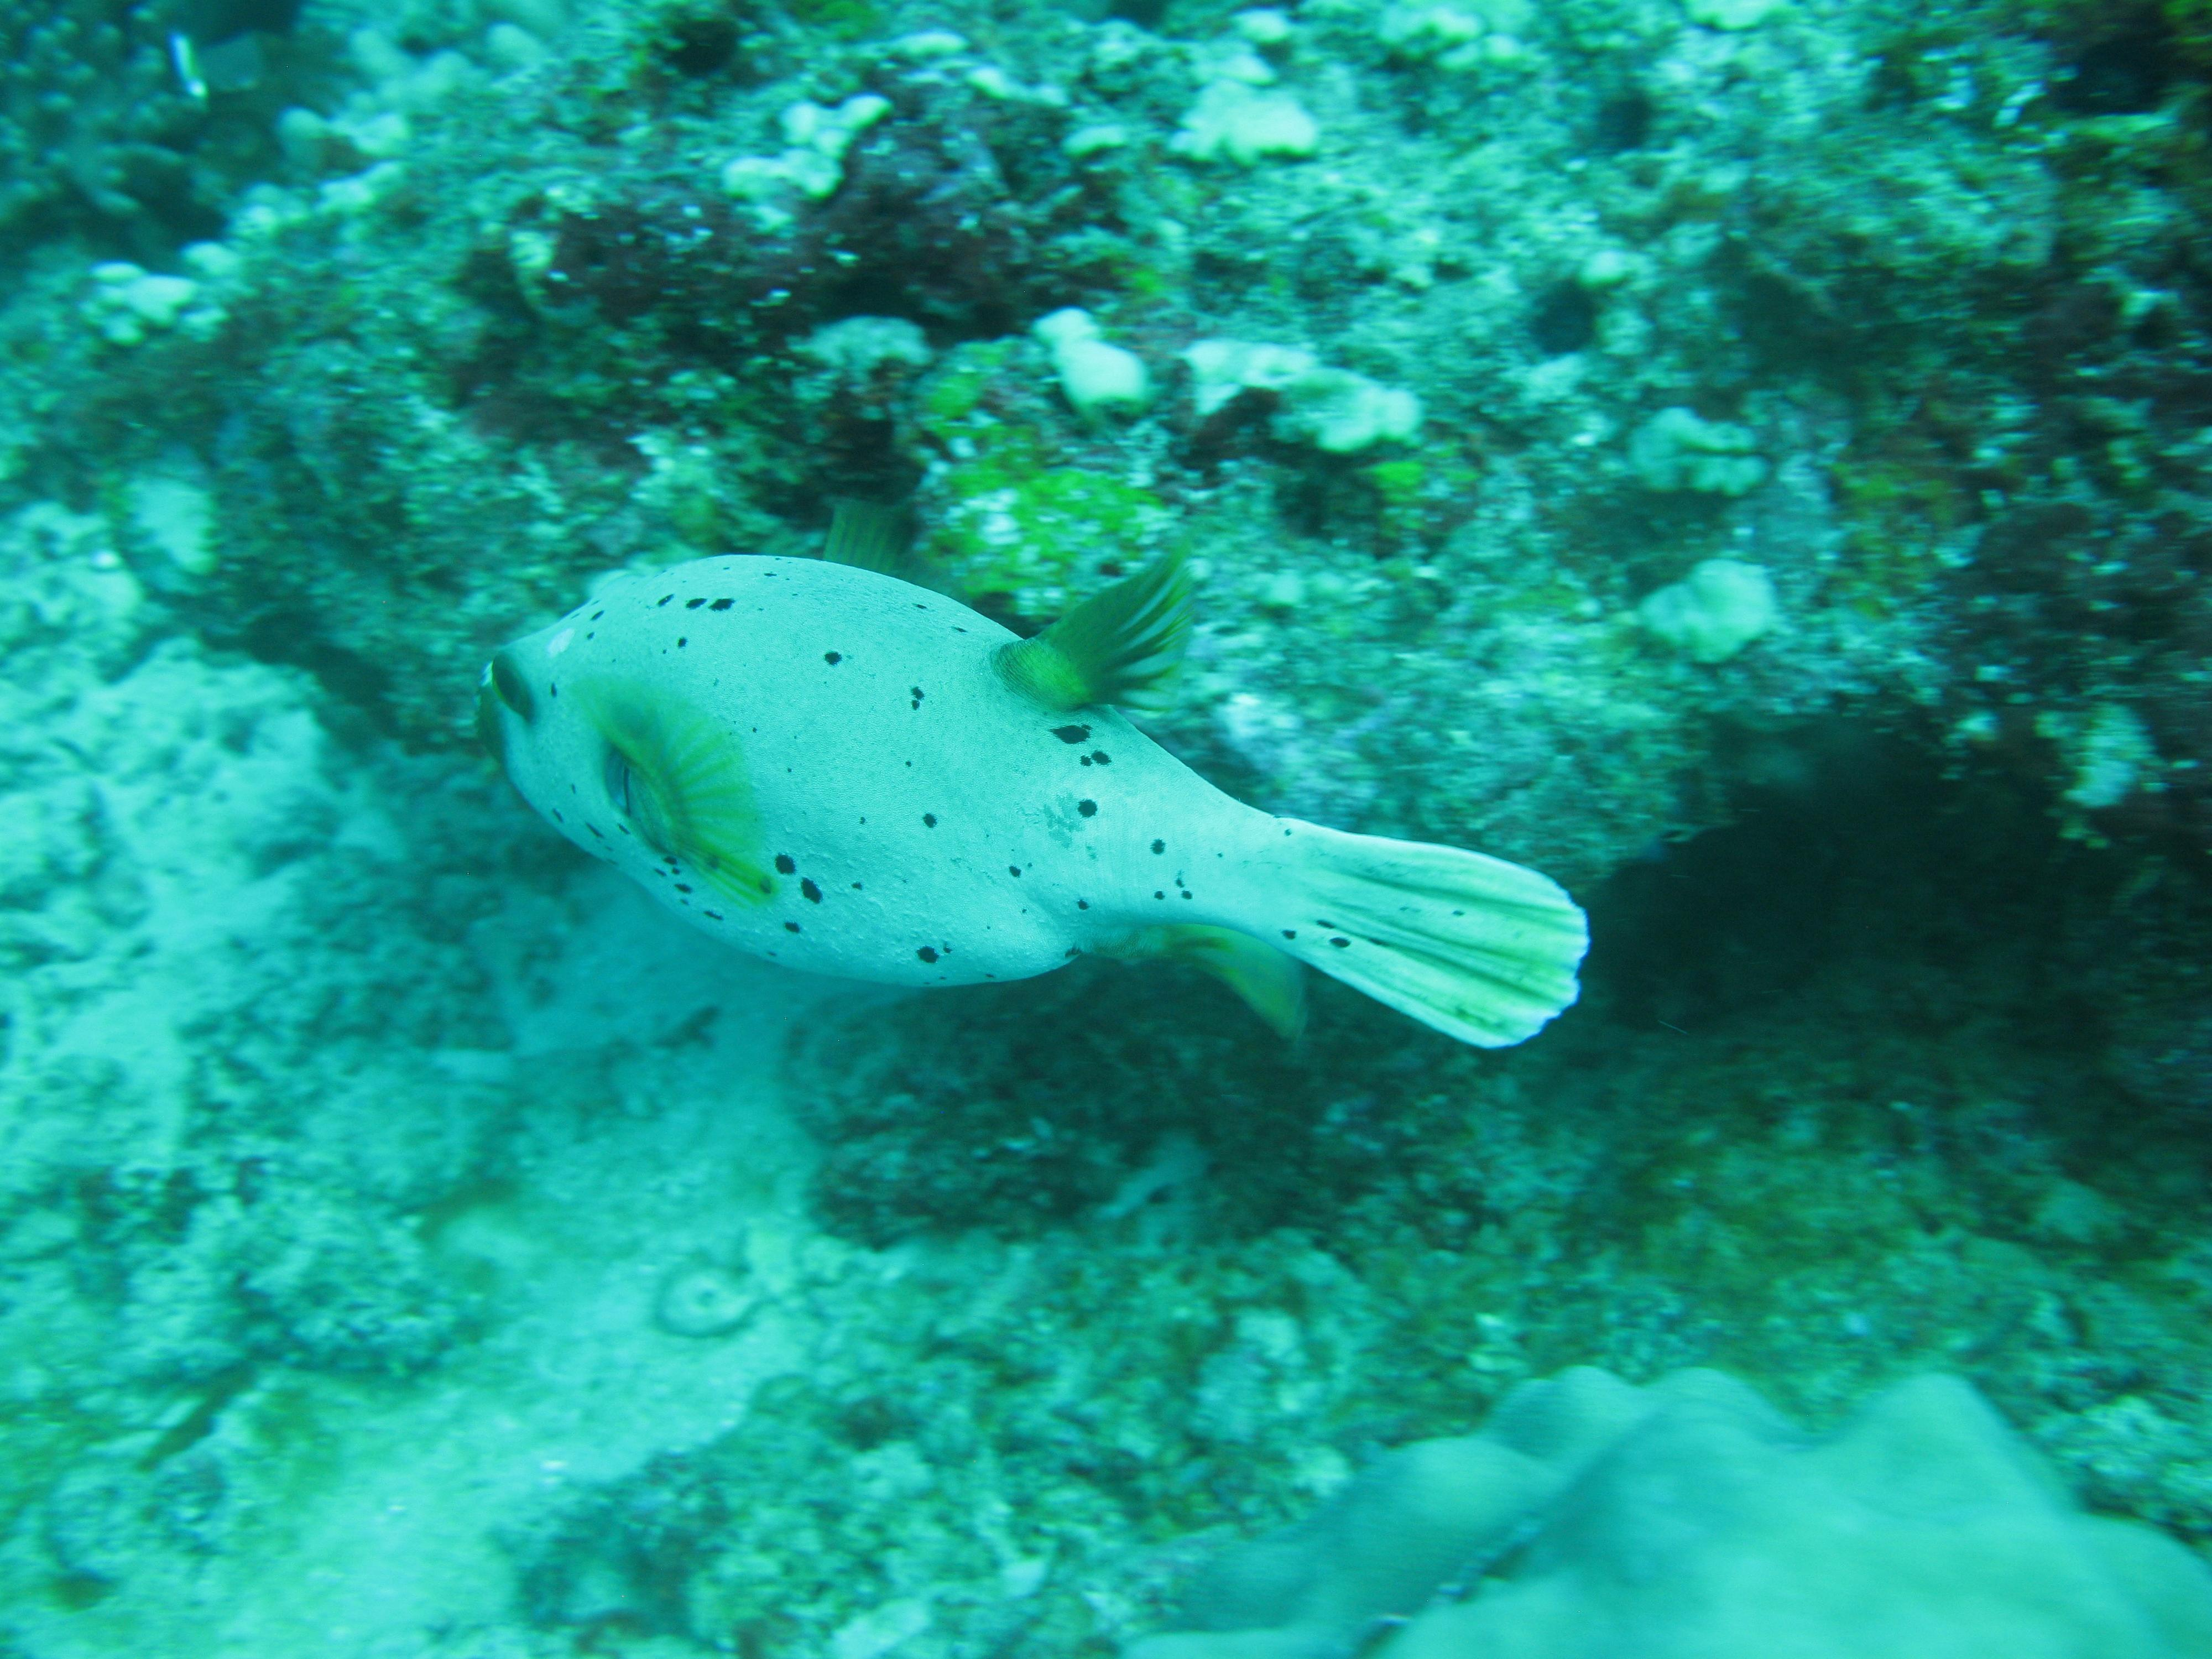Fish: (442, 493, 1620, 1094)
